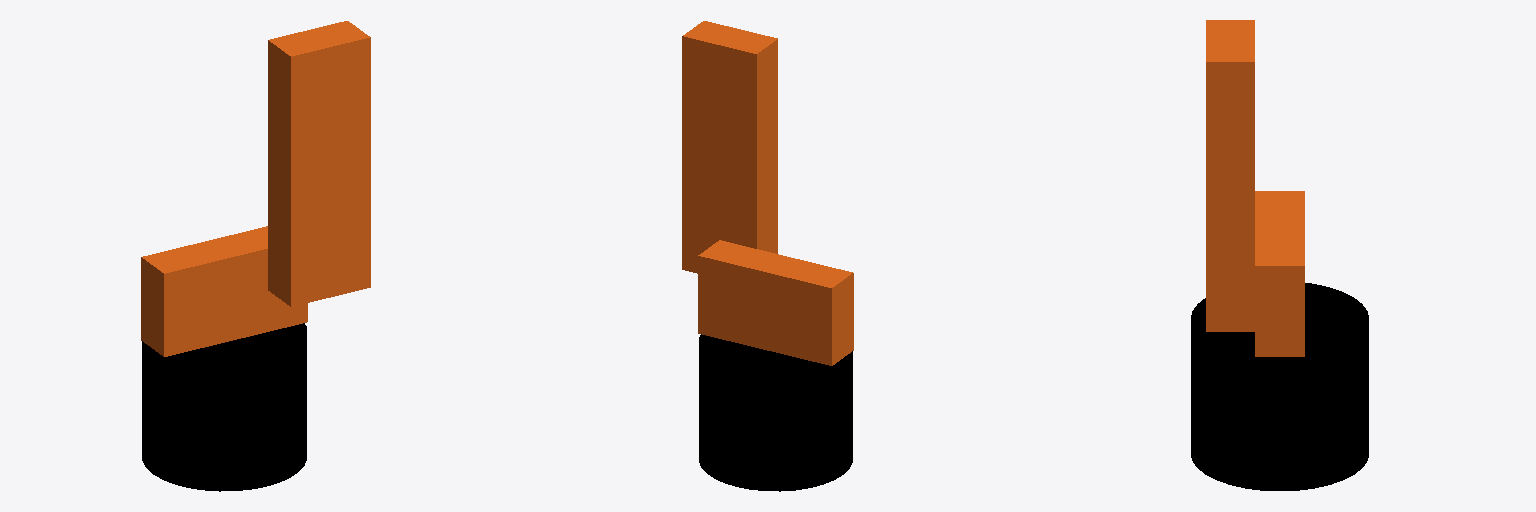
The robot description file, URDF, robot "modelo_kuka":
<?xml version="1.0"?>
<robot name="modelo_kuka">

  <material name="black">
    <color rgba="0 0 0 1"/>
  </material>

  <material name="orange">
    <color rgba="0.941 0.466 0.156 1"/>
  </material>

  <link name="base_link">
    <visual>
      <geometry>
        <cylinder length="0.3" radius="0.18"/>
      </geometry>
      <origin rpy="0 0 0" xyz="0 0 0.15"/>
      <material name="black"/>
    </visual>
  </link>

  <link name="link_1">
    <visual>
      <geometry>
        <box size="0.36 0.1 0.2"/>
      </geometry>
      <origin rpy="0 0 0" xyz="0 0 0.1"/>
      <material name="orange"/>
    </visual>
  </link>

  <joint name="base_to_link1" type="continuous">
    <parent link="base_link"/>
    <child link="link_1"/>
    <limit effort="1000.0" lower="-2.705" upper="2.705" velocity="2.72"/>
    <axis xyz="0 0 1"/>
    <origin rpy="0 0 0" xyz="0 0 0.3"/>	
  </joint>

  <link name="link_2">
    <visual>
      <geometry>
        <box size="0.2 0.1 0.6"/>
      </geometry>
      <origin rpy="0 0 0" xyz="0 0 0.3"/>
      <material name="orange"/>
    </visual>
  </link>

  <joint name="link1_to_link2" type="continuous">
    <parent link="link_1"/>
    <child link="link_2"/>
    <limit effort="1000.0" lower="-2.705" upper="2.705" velocity="2.72"/>
    <axis xyz="0 1 0"/>
    <origin rpy="0 0 0" xyz="0.18 -0.1 0.1"/>	
  </joint>


</robot>

--- Facts derived from the render (not from the file) ---
The picture shows the robot from 3 angles, left to right: view 1: azimuth 30°, elevation 25°; view 2: azimuth 150°, elevation 25°; view 3: azimuth 270°, elevation 25°; orthographic projection.
Model modelo_kuka with 3 links and 2 joints (2 continuous), rooted at base_link, posed all joints at 0.
Links seen in each view (by area): view 1: link_2, base_link, link_1; view 2: link_2, base_link, link_1; view 3: base_link, link_2, link_1.
Link boxes in pixels (<box>): link_2: <box>268,21,370,306</box>; base_link: <box>142,323,306,491</box>; link_1: <box>141,226,307,356</box>; link_2: <box>682,21,777,273</box>; base_link: <box>699,334,852,491</box>; link_1: <box>698,240,853,365</box>; base_link: <box>1191,283,1368,490</box>; link_2: <box>1206,20,1254,331</box>; link_1: <box>1255,191,1304,356</box>.
Size in the robot's own frame: 0.46 by 0.36 by 1 metres.
Geometry: primitives only (box / cylinder / sphere), no mesh files.